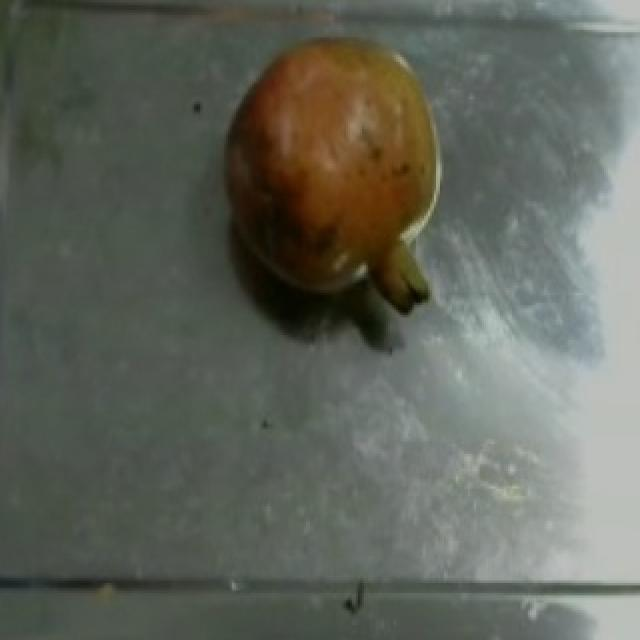fruit: (202, 2, 468, 278)
